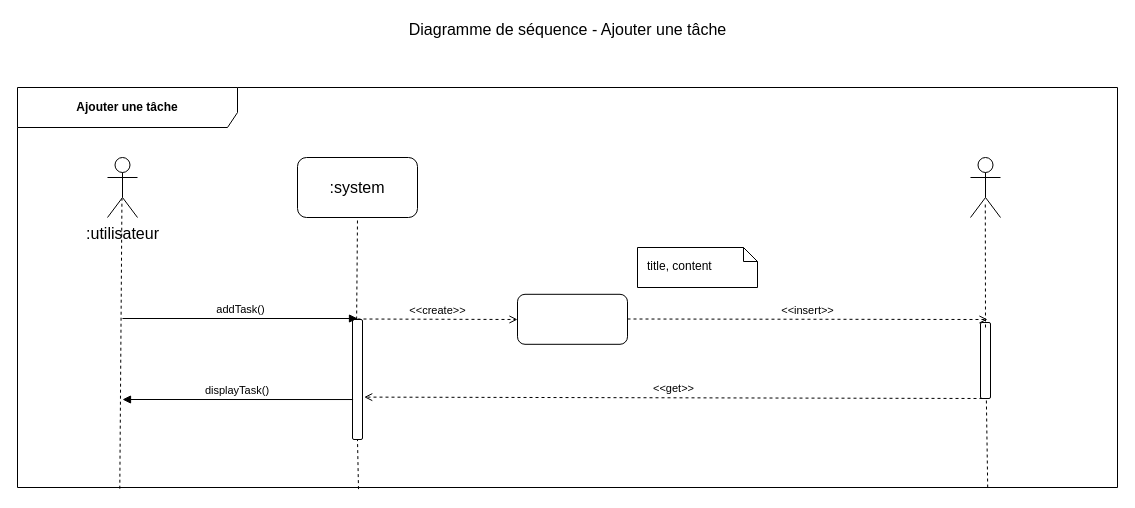
Some shapes in this 1135 by 508 pixel diagram are drawn without their labels. The centre of each missing label's shape, as x and y in pixels:
:bdd: the point at 985,187
tas: Task: the point at 572,318
